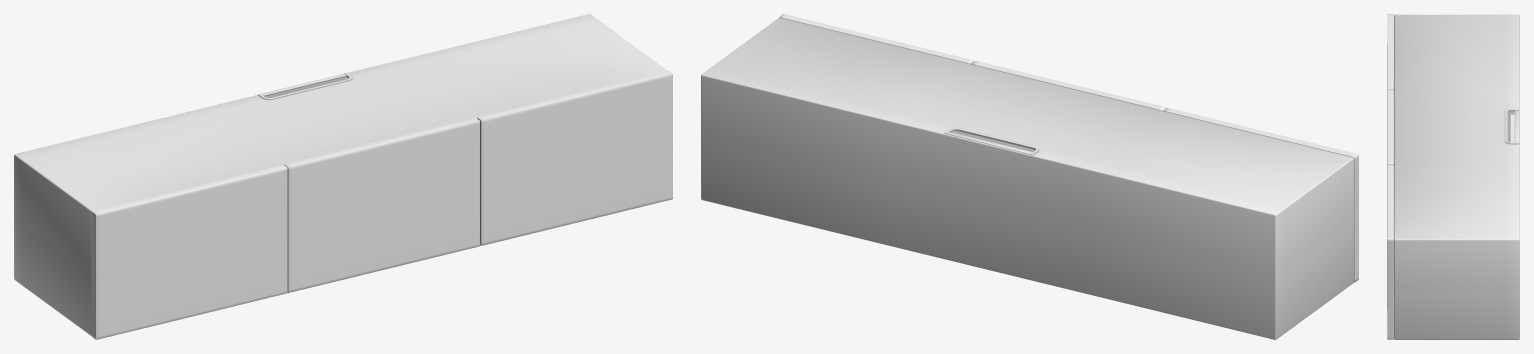
File: white Selsviken high-gloss white.gltf
3 renders of one model, left to right at view 1: azimuth 30°, elevation 25°; view 2: azimuth 150°, elevation 25°; view 3: azimuth 270°, elevation 25°, orthographic. The views are drawn at different scales.
Visible parts, largest first — view 1: Tv Shelf_002; view 2: Tv Shelf_002; view 3: Tv Shelf_002.
Part boxes in pixels (x1,y1,x2,y2): Tv Shelf_002: (14, 14, 672, 339); Tv Shelf_002: (701, 14, 1358, 339); Tv Shelf_002: (1387, 14, 1519, 339).
Bounding box in the file's own units: 1.81 × 0.3792 × 0.4496.
1 material, 1 textured.
